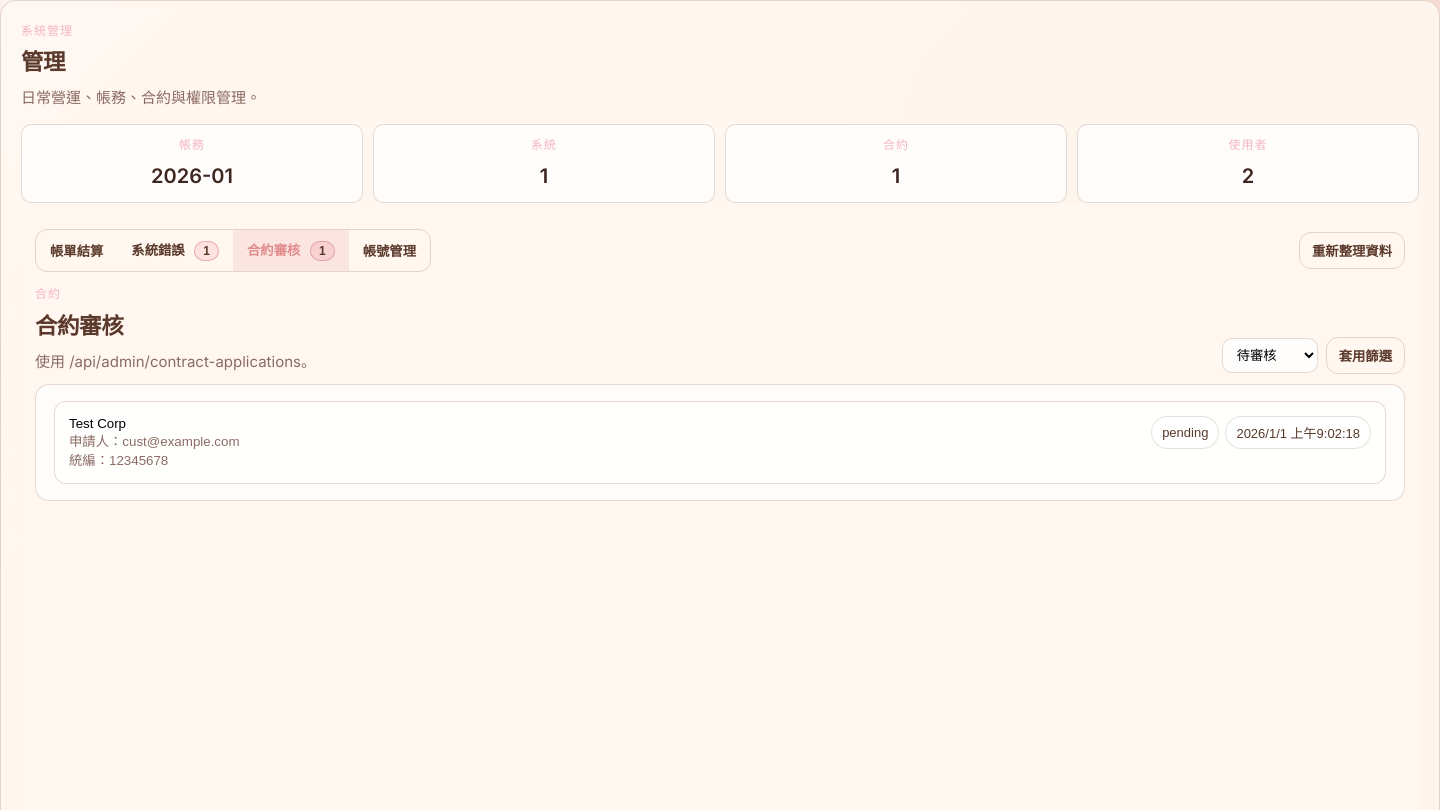
AdminView › 合約申請審核 › 點擊合約可以展開詳情
This screenshot has width=1440, height=810.
Click the button that starts with "Test Corp".
click(98, 423)  # box [63,410,1377,475]
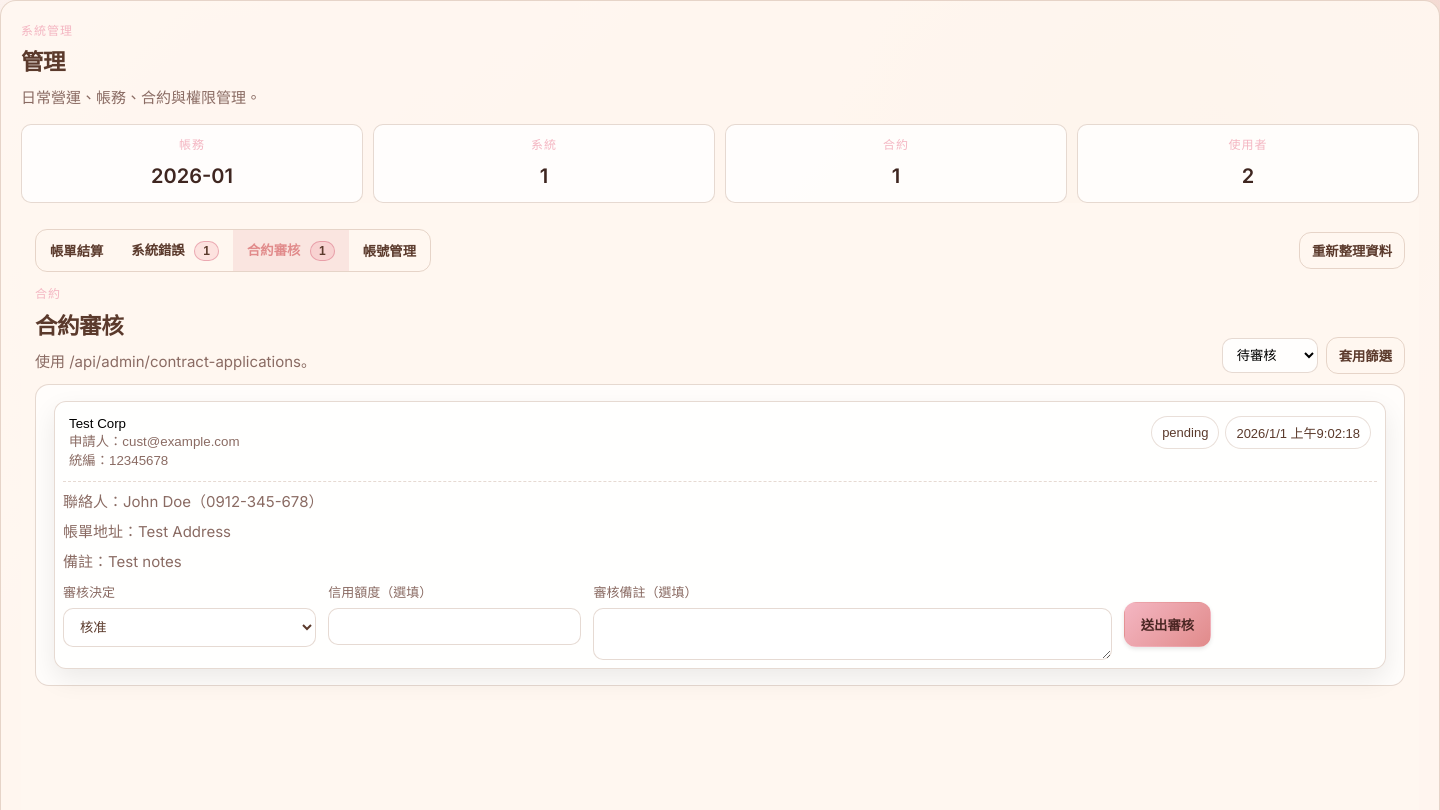
Check: the text "John Doe" is shown, box [63,492,323,511]
